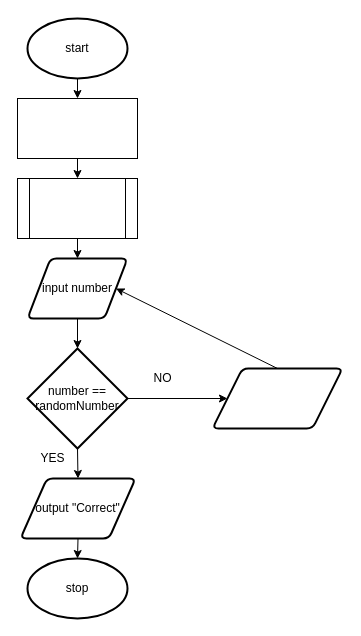
The diagram is 361 pixels wide and 636 high, and some of its shapes have lost their labels. The box of each missing label's shape, as (x1, y1, x2, y2) in pixels:
Declarations num randomNumber num number: (16, 98, 138, 158)
output "Try again": (211, 367, 343, 429)
randomNumber = random(10): (16, 178, 138, 238)
